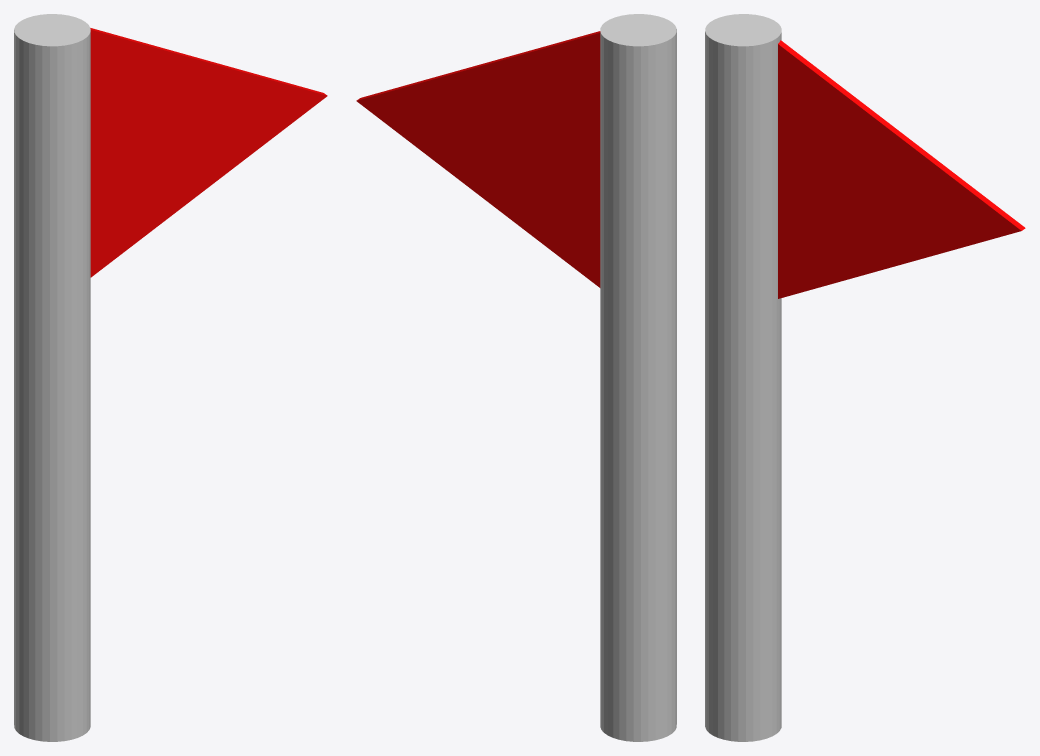
Rendered from flag.dae.
The picture shows the model from 3 angles, left to right: view 1: azimuth 30°, elevation 25°; view 2: azimuth 150°, elevation 25°; view 3: azimuth 330°, elevation 25°; orthographic projection.
Parts seen in each view (by area): view 1: Cylinder, flag; view 2: Cylinder, flag; view 3: Cylinder, flag.
Boxes of the visible parts, box(x1,y1,x2,y2) form: Cylinder: box(14, 14, 90, 741); flag: box(90, 28, 327, 277); Cylinder: box(600, 14, 676, 741); flag: box(356, 31, 600, 287); Cylinder: box(705, 14, 781, 741); flag: box(778, 40, 1025, 298).
Size of the model in its own units: 0.4666 by 0.1 by 1.
